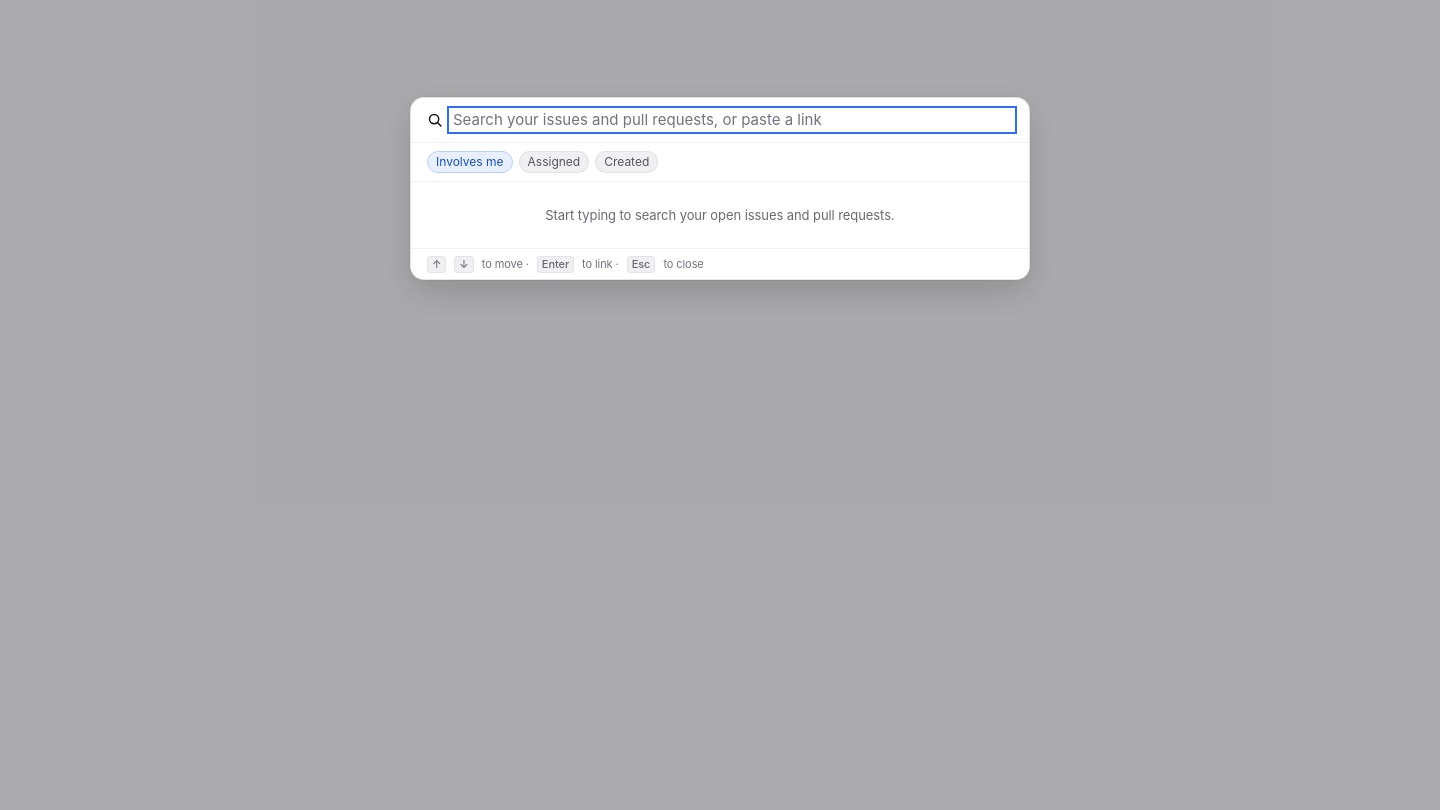
Test: GithubPickerOverlay › searches for things involving you by default, debounced
Check: the dialog with test id "gh-picker" is shown, box [410,97,1030,280]
Step 1. Type "flicker" into the field named "Search GitHub" → (732, 120), box [451,110,1013,130]
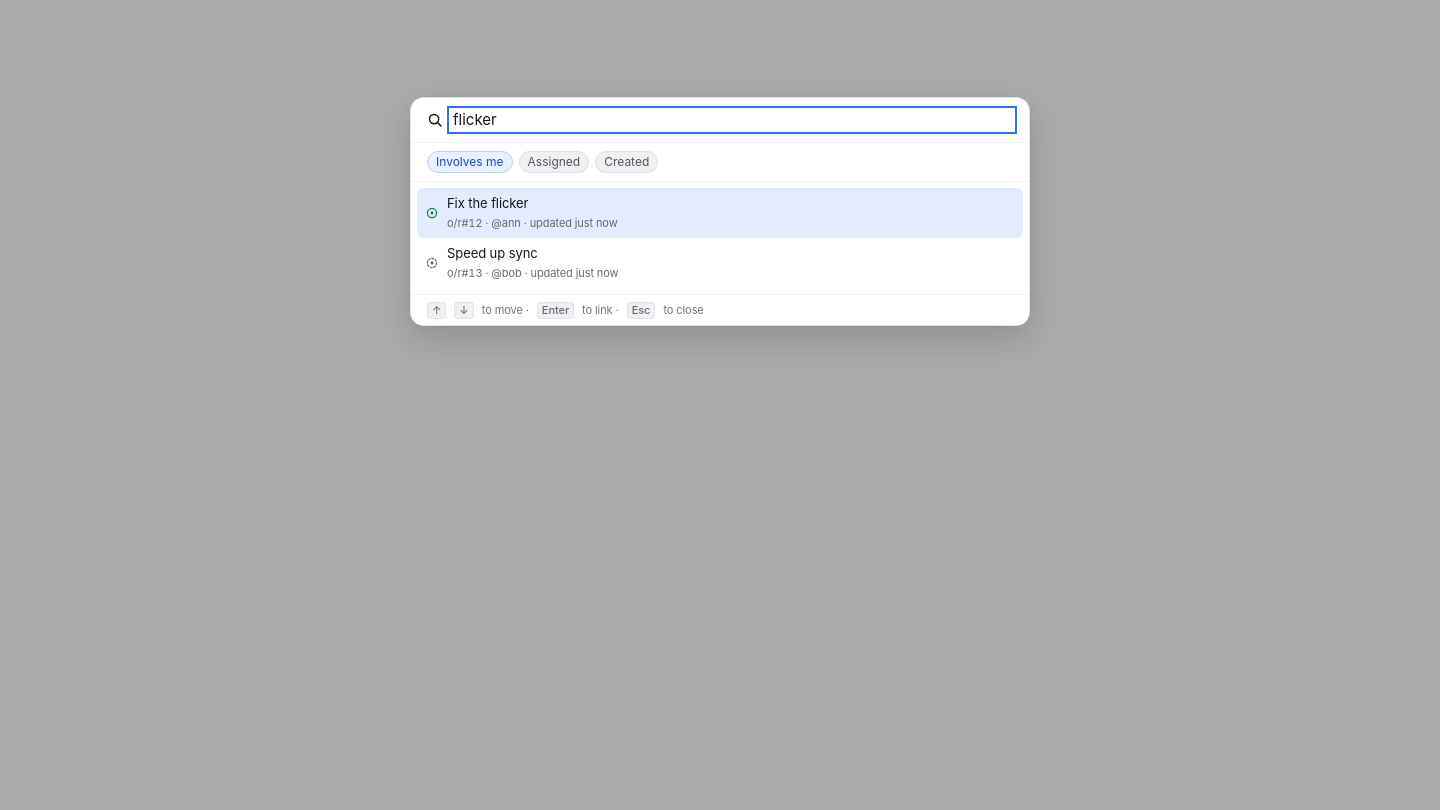
Check: the text "Fix the flicker" is shown, box [447,195,528,211]
Check: the text "Speed up sync" is shown, box [447,245,538,261]
